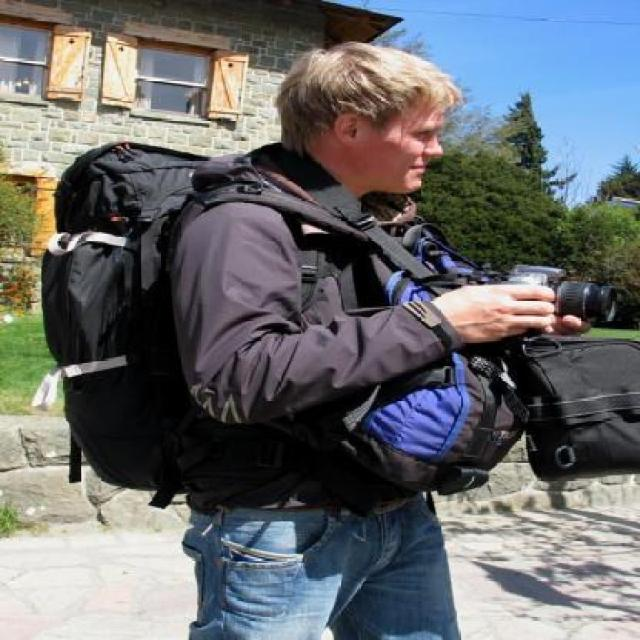backpack: (34, 134, 197, 503), (351, 214, 518, 498), (507, 330, 640, 486)
